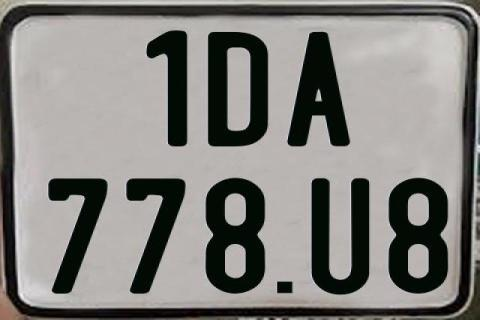0: (202, 176, 268, 296), (48, 177, 113, 293), (123, 178, 184, 296), (388, 176, 449, 294), (144, 30, 188, 148)
A: (284, 32, 349, 146)
D: (206, 32, 266, 150)
U: (310, 177, 374, 297)
